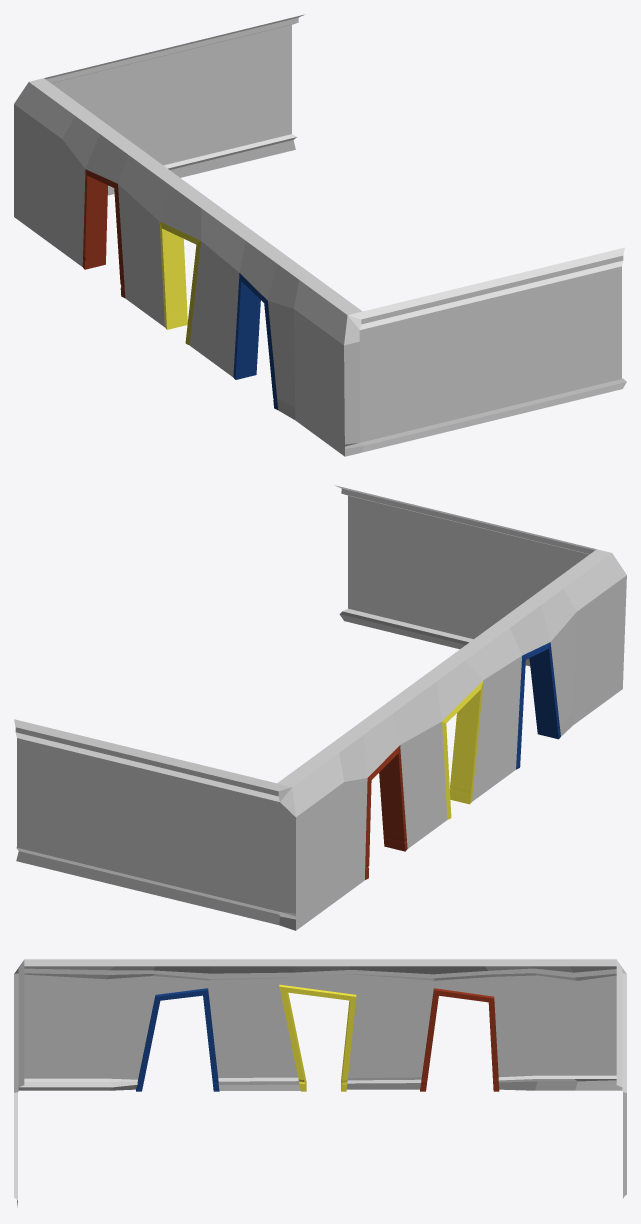
File: Mur_10m.fbx
3 renders of one model, top to bottom at view 1: azimuth 30°, elevation 25°; view 2: azimuth 150°, elevation 25°; view 3: azimuth 270°, elevation 25°, orthographic. The views are drawn at different scales.
Visible parts, largest first — view 1: Mur_Salle10M, Mur_Porte10m; view 2: Mur_Salle10M, Mur_Porte10m; view 3: Mur_Porte10m, Mur_Salle10M.
Part boxes in pixels (left/top/right/bottom): Mur_Salle10M: left=44, top=14, right=626, bottom=452; Mur_Porte10m: left=14, top=78, right=364, bottom=456; Mur_Salle10M: left=14, top=485, right=596, bottom=924; Mur_Porte10m: left=277, top=549, right=626, bottom=930; Mur_Porte10m: left=14, top=959, right=626, bottom=1091; Mur_Salle10M: left=14, top=966, right=626, bottom=1207.
Size of the model in its own units: 1097 by 500 by 2181.
